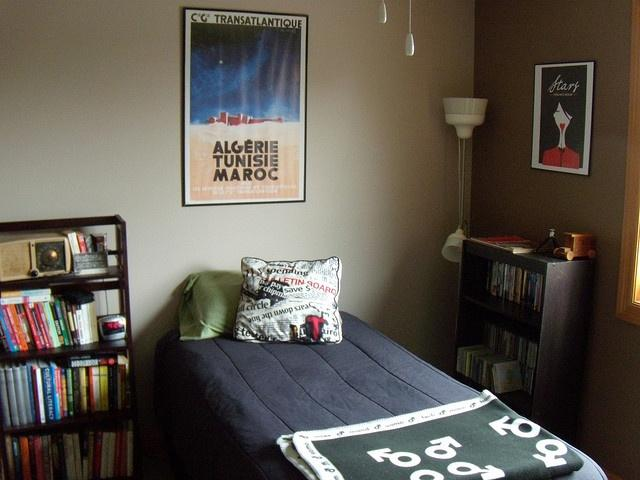Rak: (0, 213, 137, 479)
